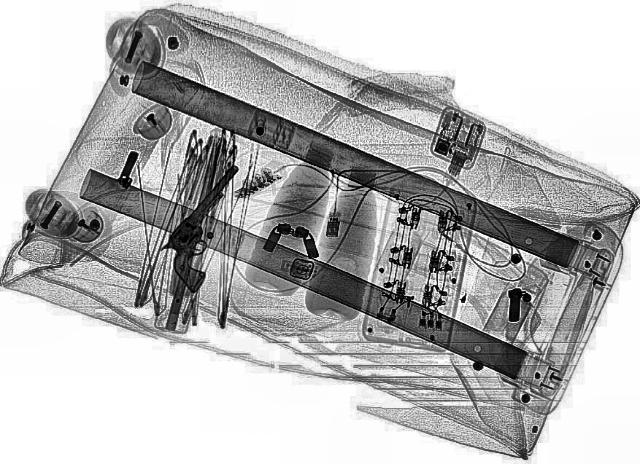Gun: (134, 163, 290, 293)
